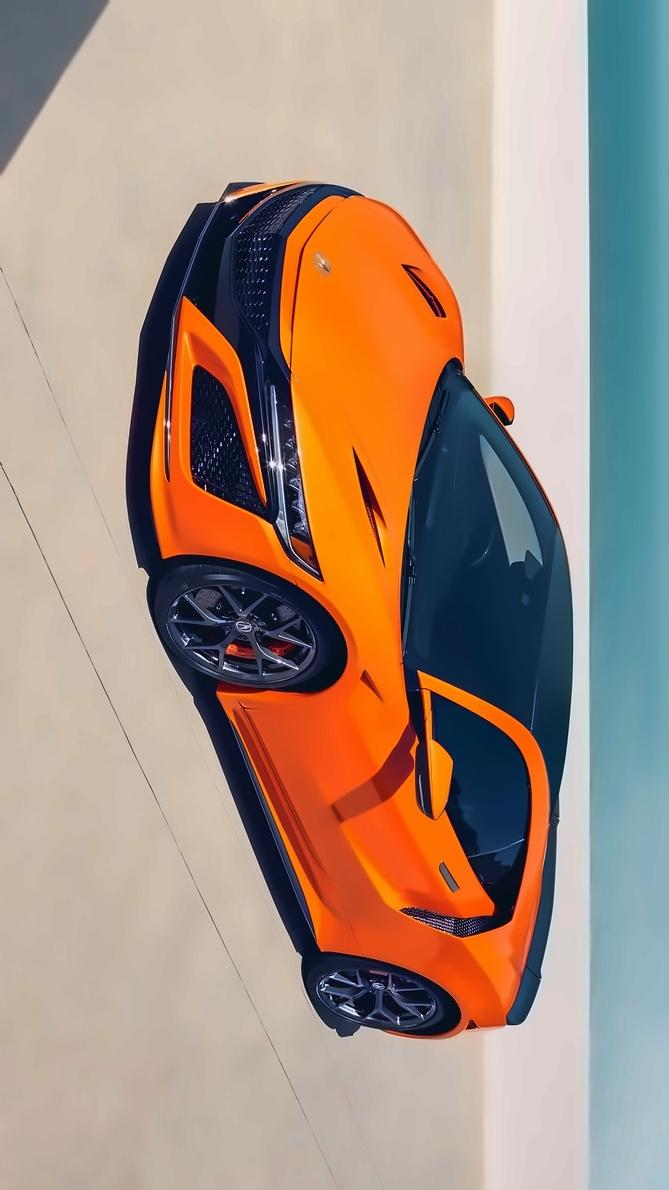Car hood: (275, 187, 467, 643)
Fender - -F-L-: (225, 587, 448, 710)
Fender - -R-L-: (322, 934, 526, 1007)
Front bumper: (142, 162, 292, 589)
Headlight - -L-: (242, 325, 329, 587)
Passenger-s door - -F-L-: (240, 710, 551, 927)
Rear bumper: (377, 1015, 463, 1063)
Rear light - -L-: (456, 997, 492, 1045)
Side bumper - -L-: (204, 680, 346, 959)
Side mirror - -L-: (395, 715, 461, 824)
Side mirror - -R-: (474, 380, 520, 435)
